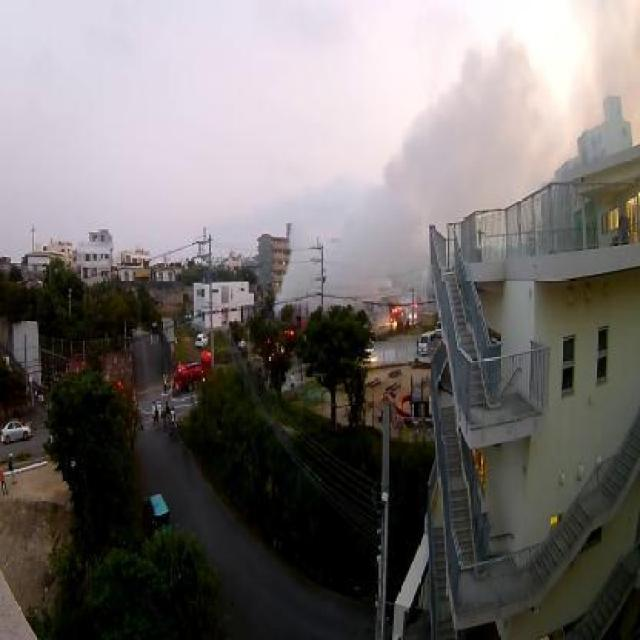Fire: (393, 303, 404, 312)
